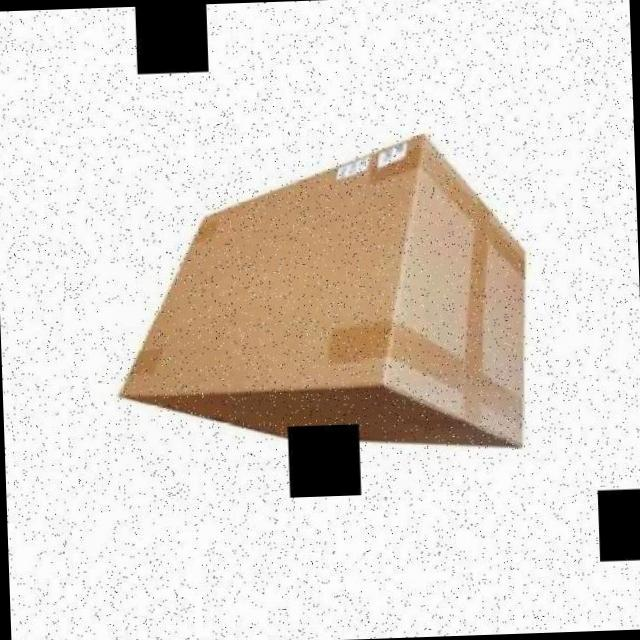box: (105, 120, 542, 477)
